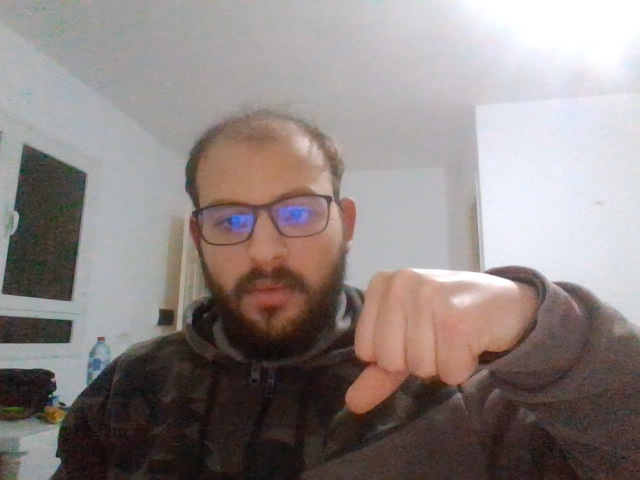Yes: (344, 271, 480, 414)
